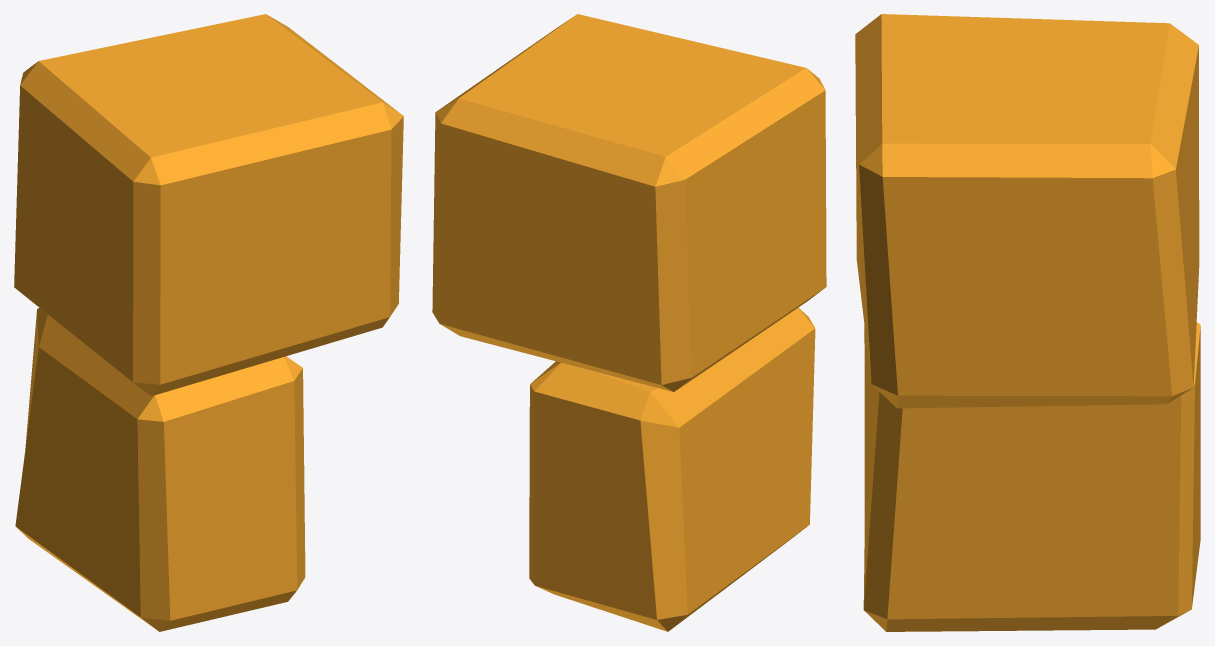
File: SM_Wall_Thick_End_Stone_1m_Fantasy.fbx
3 views of the same model, side by side, from view 1: azimuth 30°, elevation 25°; view 2: azimuth 150°, elevation 25°; view 3: azimuth 270°, elevation 25° (orthographic). The views are drawn at different scales.
Parts seen in each view (by area): view 1: SM_Wall_Thick_End_Stone_1m_Fantasy; view 2: SM_Wall_Thick_End_Stone_1m_Fantasy; view 3: SM_Wall_Thick_End_Stone_1m_Fantasy.
Part boxes in pixels (box(x1,y1,x2,y2)): SM_Wall_Thick_End_Stone_1m_Fantasy: box(14, 14, 403, 631); SM_Wall_Thick_End_Stone_1m_Fantasy: box(432, 14, 826, 631); SM_Wall_Thick_End_Stone_1m_Fantasy: box(855, 14, 1200, 631).
Size of the model in its own units: 0.6114 by 1.01 by 0.5861.
